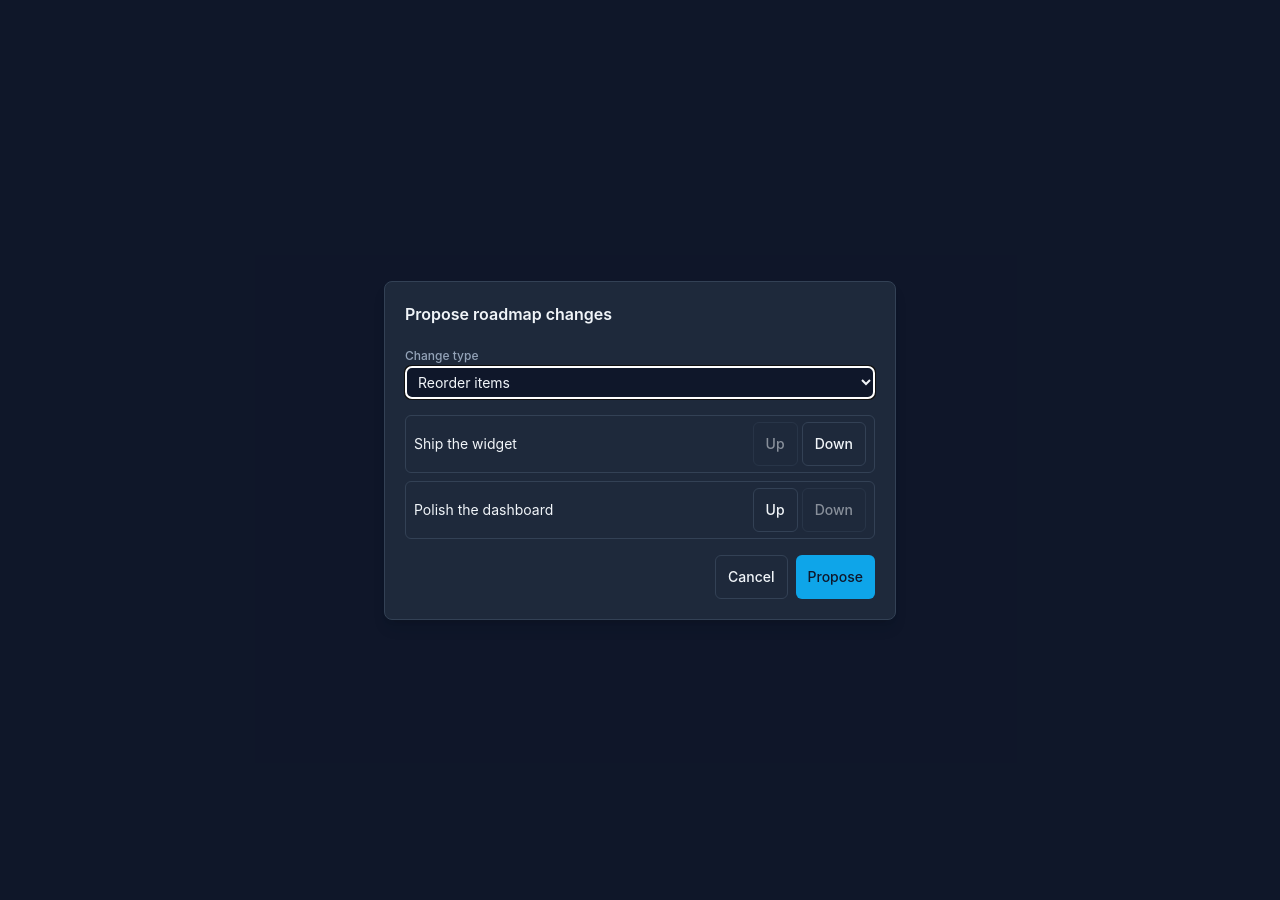
Test case: ProposeRoadmapChangesModal › shows an inline error and keeps the dialog open when reordering fails
Click the button with test id "propose-roadmap-submit" at [835, 576], box [796,554,875,598]
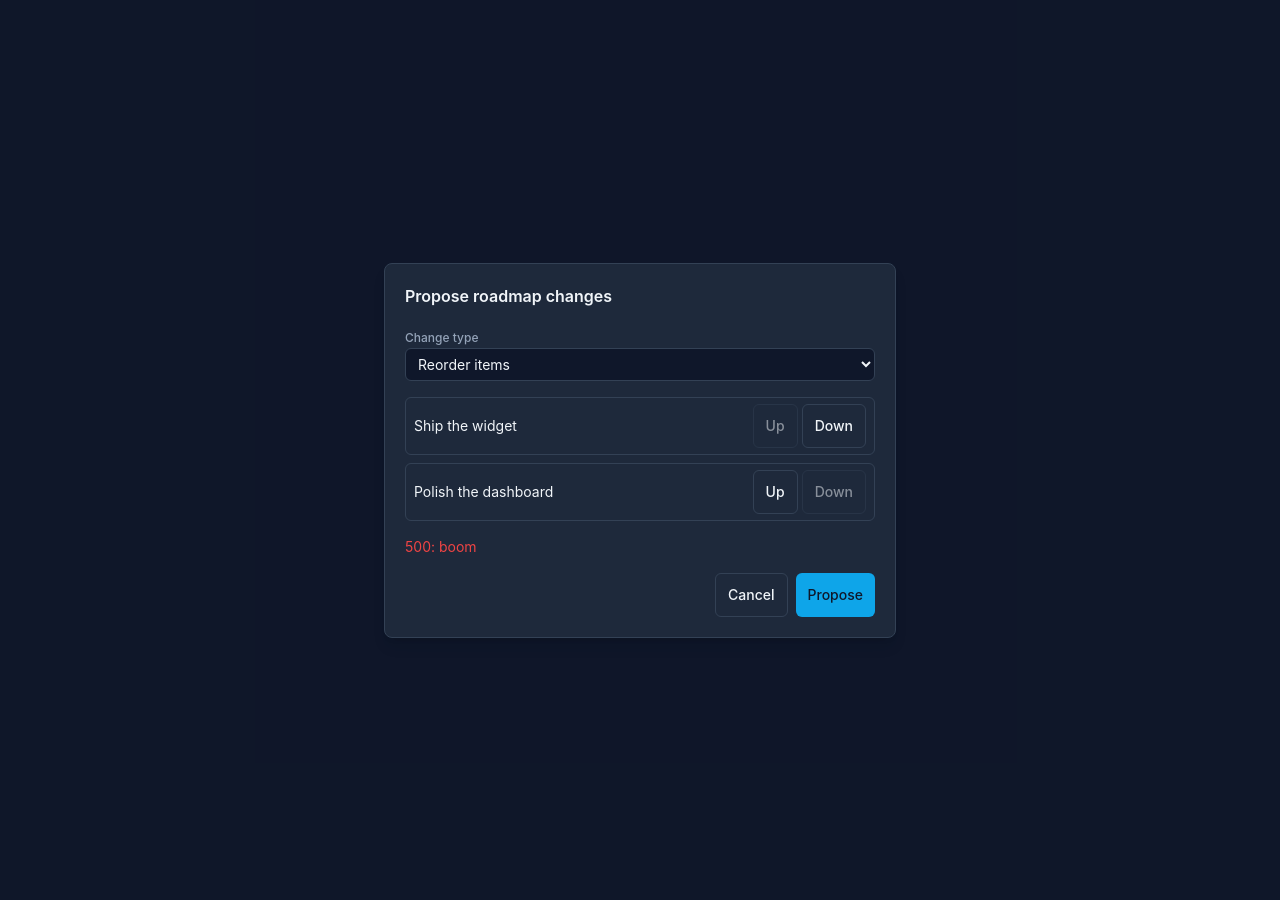
Check: the dialog with test id "propose-roadmap-changes-dialog" is shown, box [384,262,896,638]
Check: the message with test id "propose-roadmap-error" shows "500", box [405,538,477,554]
